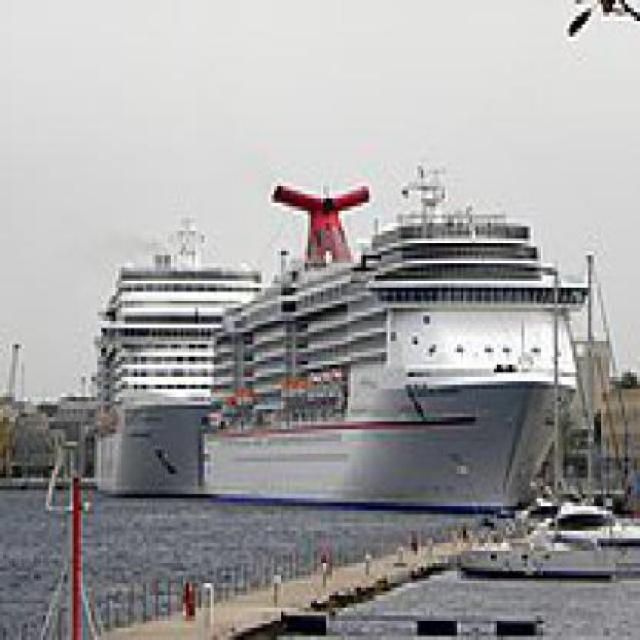cruise: (187, 154, 604, 516)
